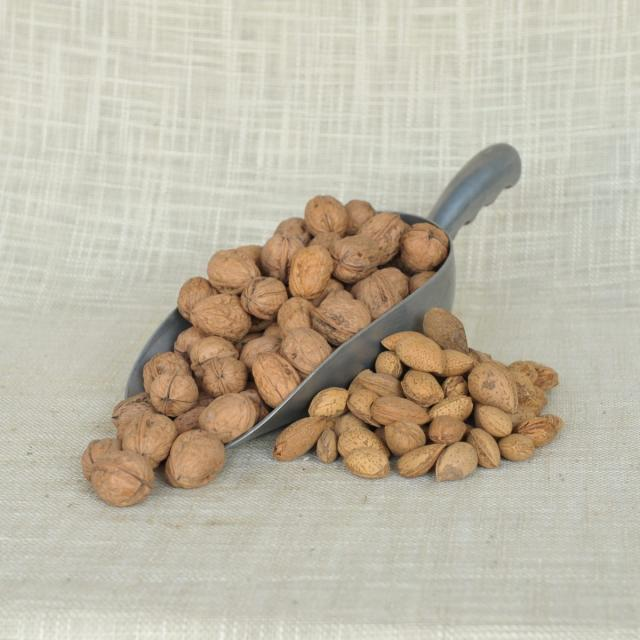Frutta secca: (84, 200, 432, 522), (297, 320, 579, 488)
